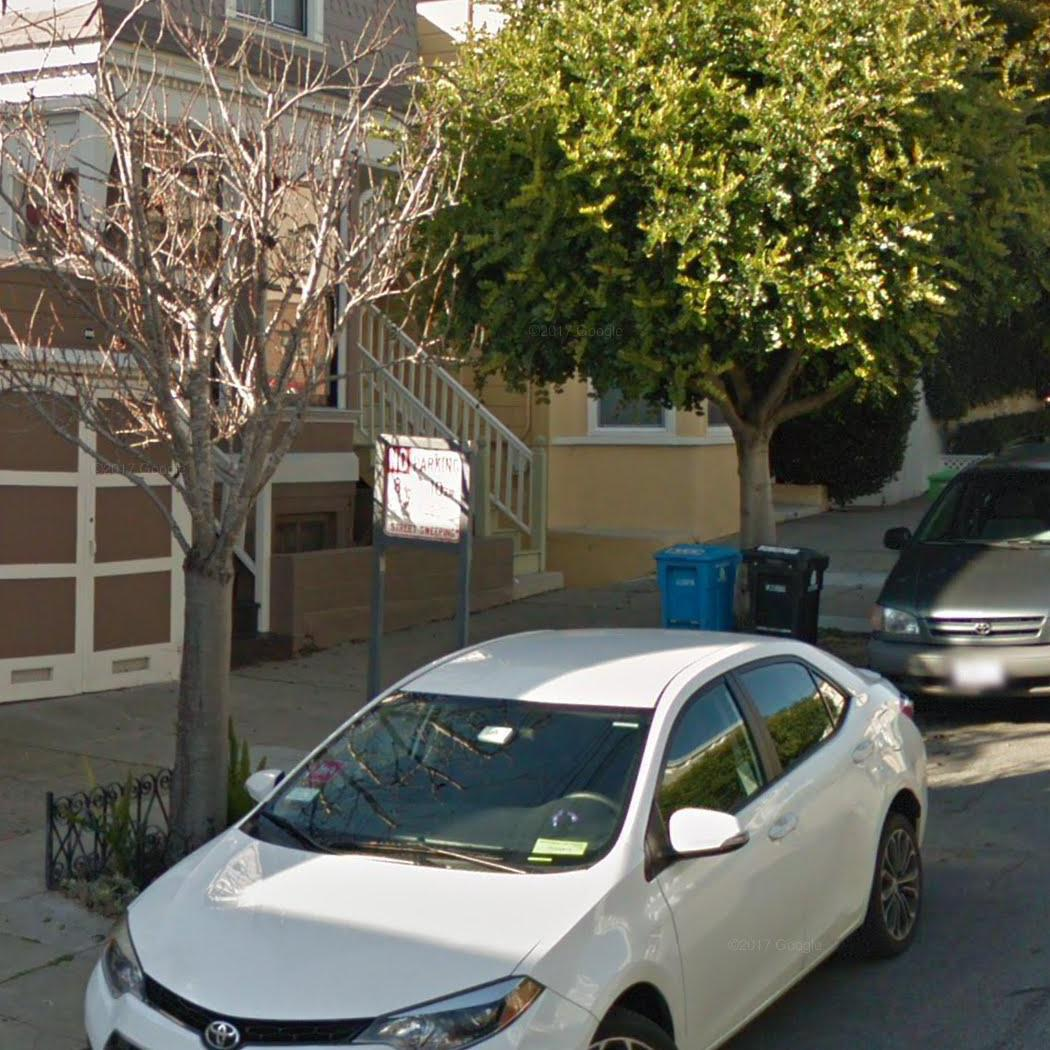No Parking: (377, 440, 467, 550)
